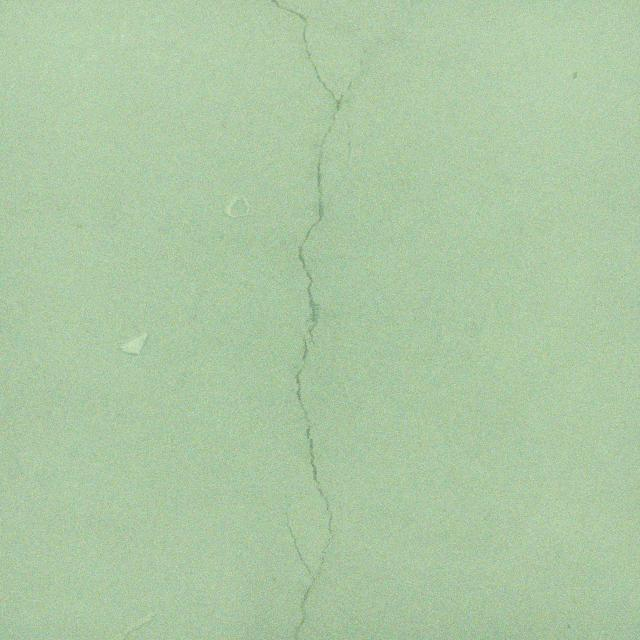crack: (270, 0, 366, 640)
